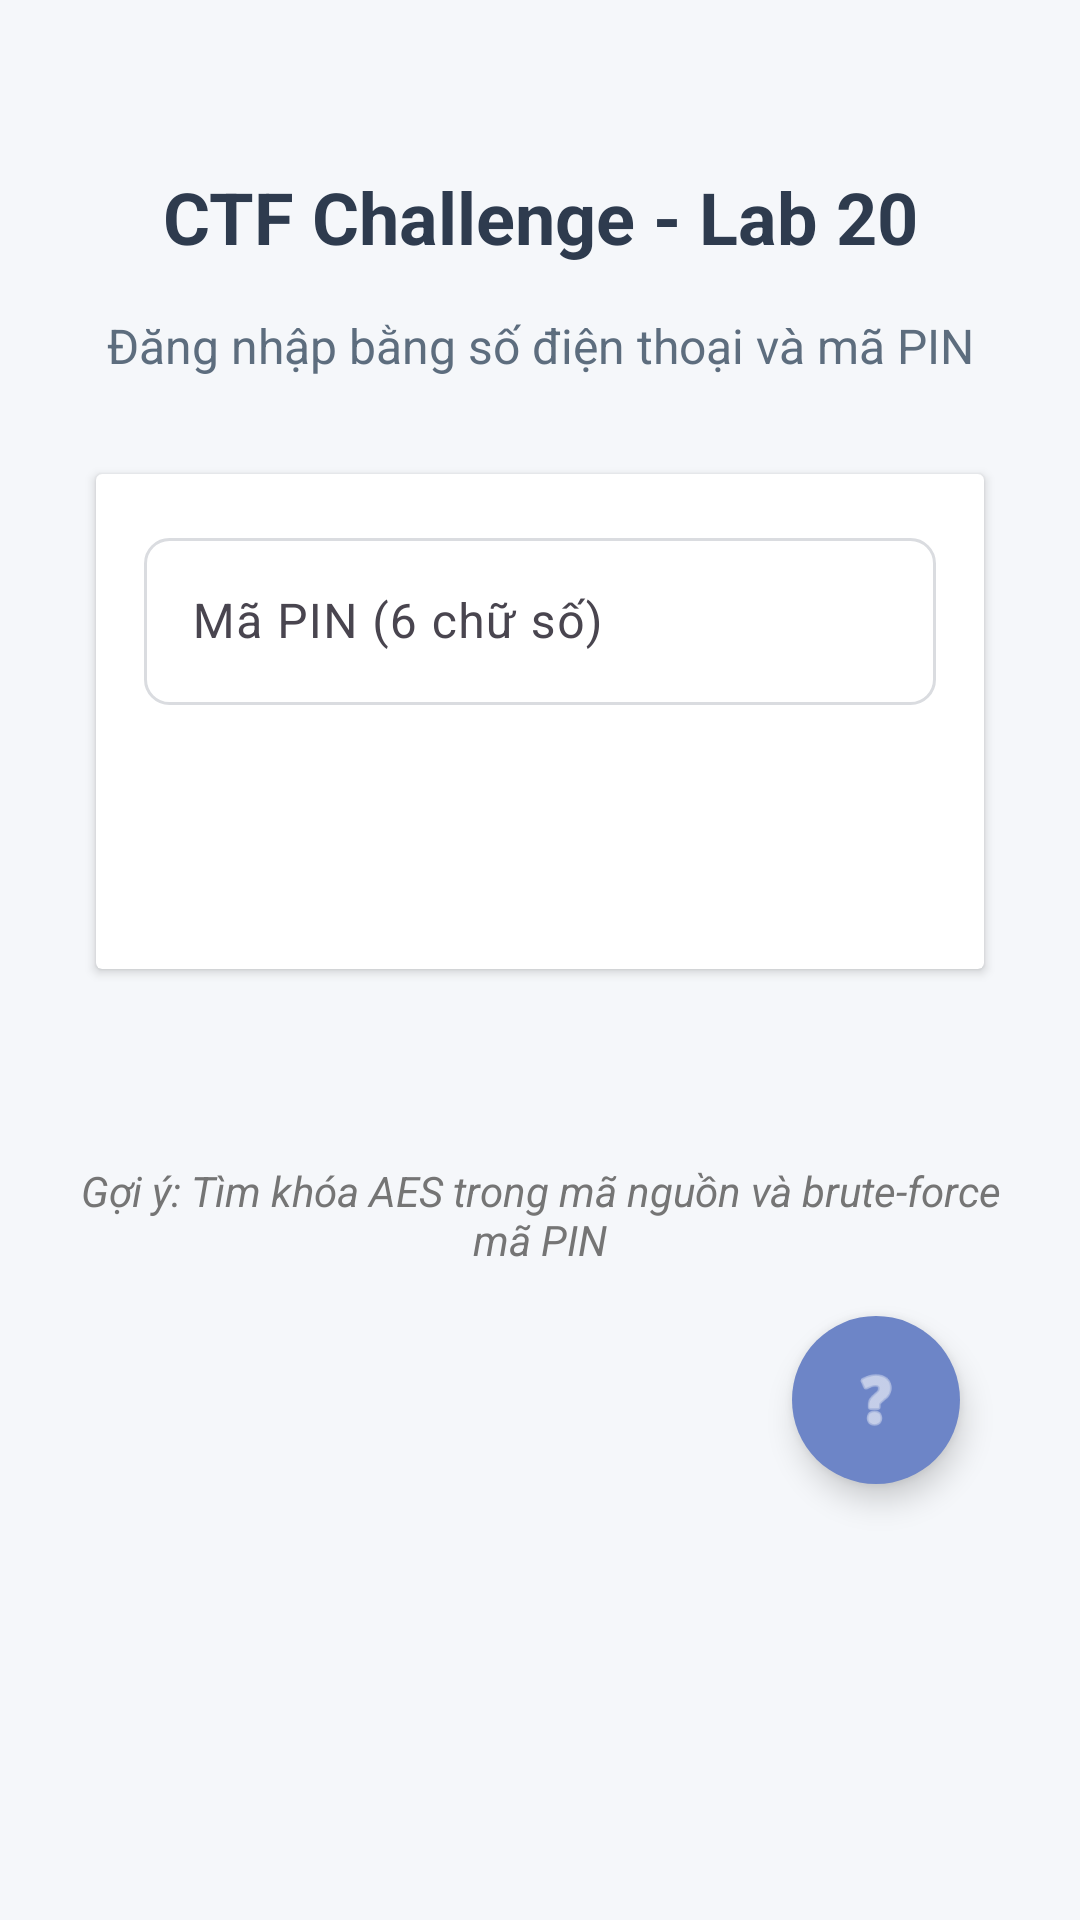

Where icons sit on this 1080*1920 app screen, as (x1, y1, x2, y2):
Help: (792, 1316, 960, 1484)
